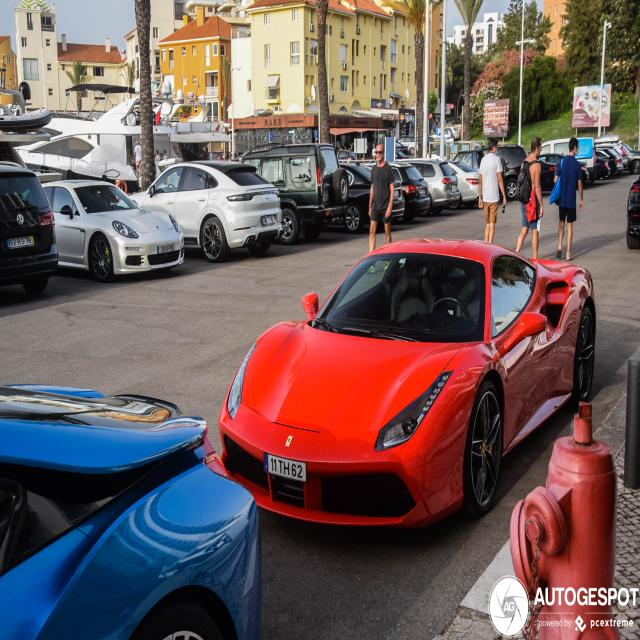portuguese-license-plates: (263, 451, 308, 484)
